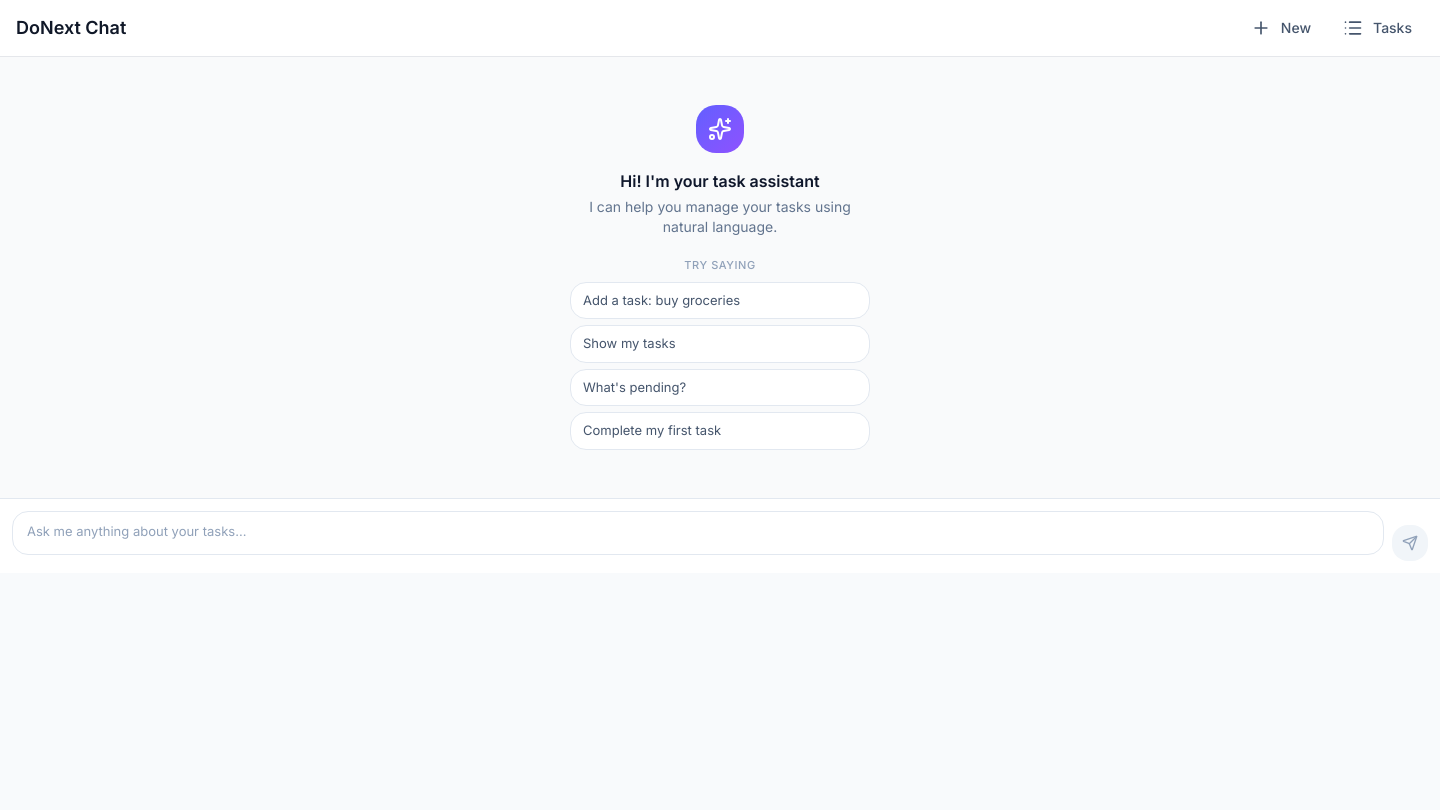
Chat Integration Flow › complete conversation flow: send message and receive AI response
The width and height of the screenshot is (1440, 810).
Type "Hello" into the text box with placeholder "Ask me anything about your tasks..." at coordinates (698, 532), box [12, 510, 1384, 554]
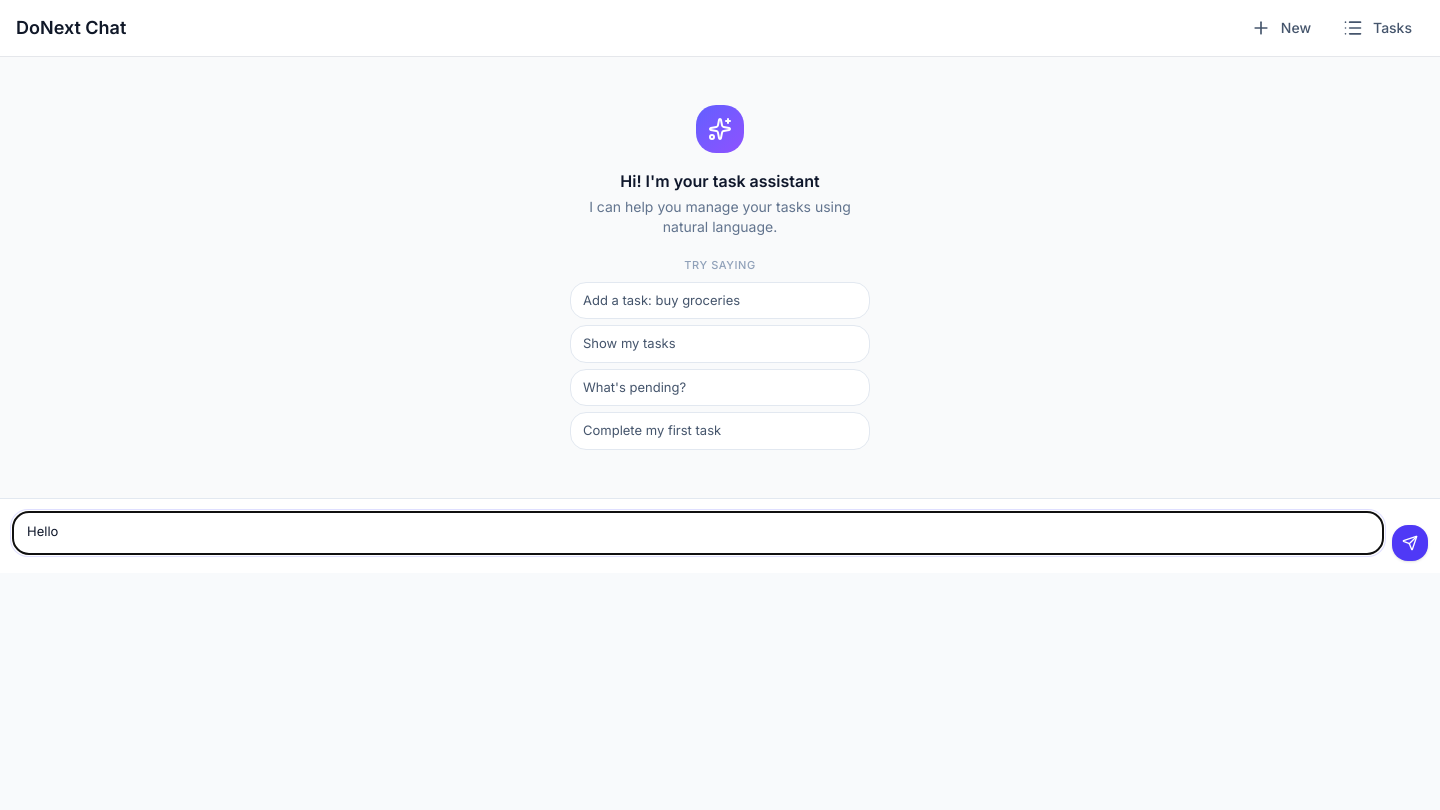
Click the button named "Send message" at coordinates (1410, 542), box [1392, 524, 1428, 560]
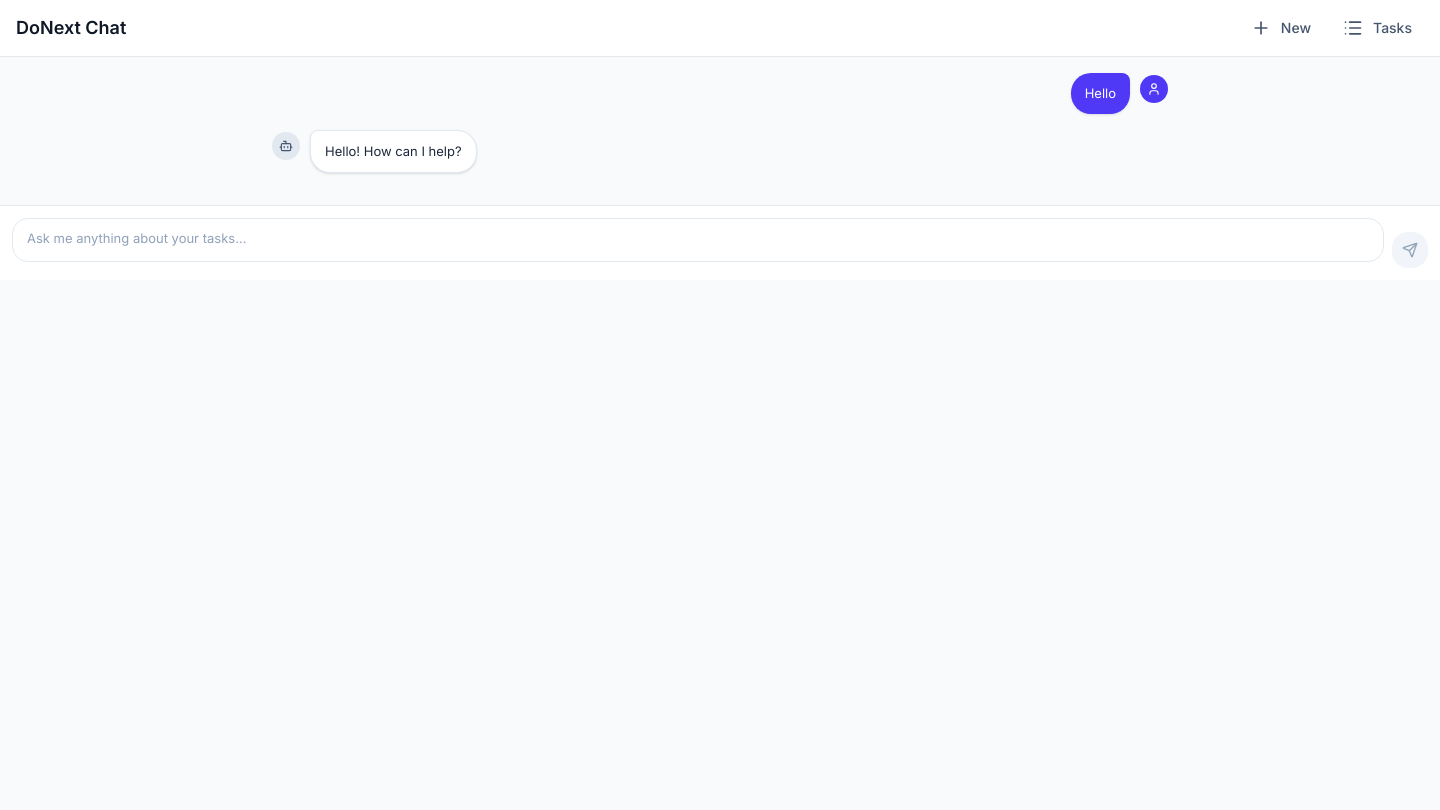
Check: the text "Hello" is shown, box [1085, 83, 1116, 104]
Check: the text "Hello! How can I help?" is shown, box [325, 141, 462, 162]
